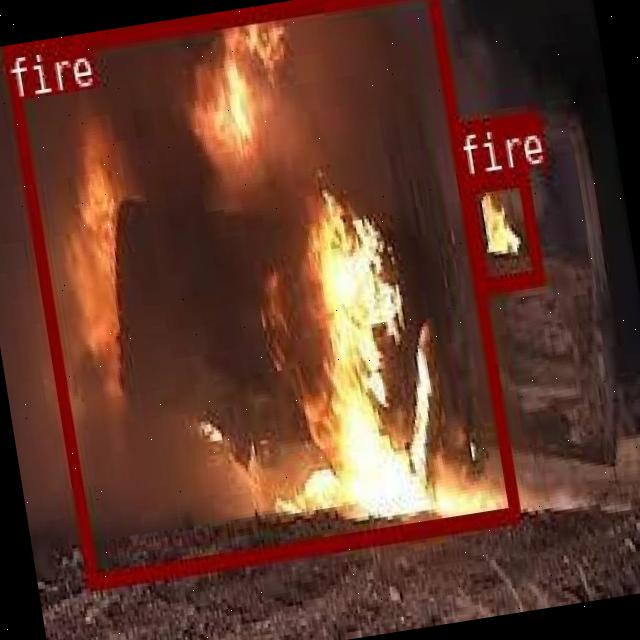fire: (2, 0, 520, 589), (460, 166, 542, 290)
